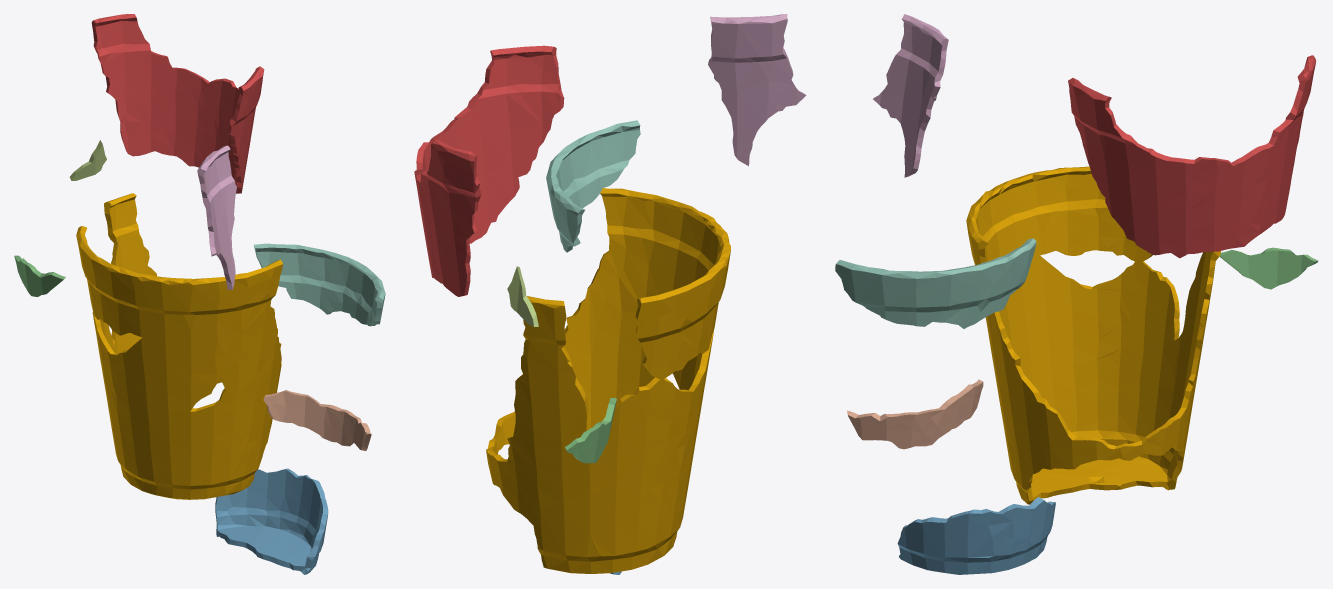
Rendered from fractured_70_8pcs_transformed.glb.
The picture shows the model from 3 angles, left to right: view 1: azimuth 30°, elevation 25°; view 2: azimuth 150°, elevation 25°; view 3: azimuth 270°, elevation 25°; orthographic projection. The views are drawn at different scales.
Parts seen in each view (by area): view 1: piece_0.obj, piece_1.obj, piece_2.obj, piece_4.obj, piece_6.obj, piece_7.obj, piece_3.obj, piece_5.obj; view 2: piece_0.obj, piece_1.obj, piece_6.obj, piece_4.obj, piece_3.obj, piece_5.obj; view 3: piece_0.obj, piece_1.obj, piece_4.obj, piece_2.obj, piece_6.obj, piece_7.obj, piece_3.obj.
Part boxes in pixels (x1,y1,x2,y2): piece_0.obj: (76,193,282,499); piece_1.obj: (91,14,264,193); piece_2.obj: (215,468,328,574); piece_4.obj: (253,243,385,326); piece_6.obj: (197,145,236,289); piece_7.obj: (263,390,371,450); piece_3.obj: (14,255,65,296); piece_5.obj: (70,140,106,180); piece_0.obj: (486,188,730,573); piece_1.obj: (414,45,564,296); piece_6.obj: (708,14,806,166); piece_4.obj: (546,120,640,252); piece_3.obj: (565,398,616,463); piece_5.obj: (507,266,538,326); piece_0.obj: (966,166,1220,504); piece_1.obj: (1068,55,1316,258); piece_4.obj: (835,238,1036,328); piece_2.obj: (897,497,1055,574); piece_6.obj: (873,14,948,177); piece_7.obj: (847,379,983,449); piece_3.obj: (1219,247,1318,289).
Size of the model in its own units: 0.8678 by 1.8 by 1.61.
